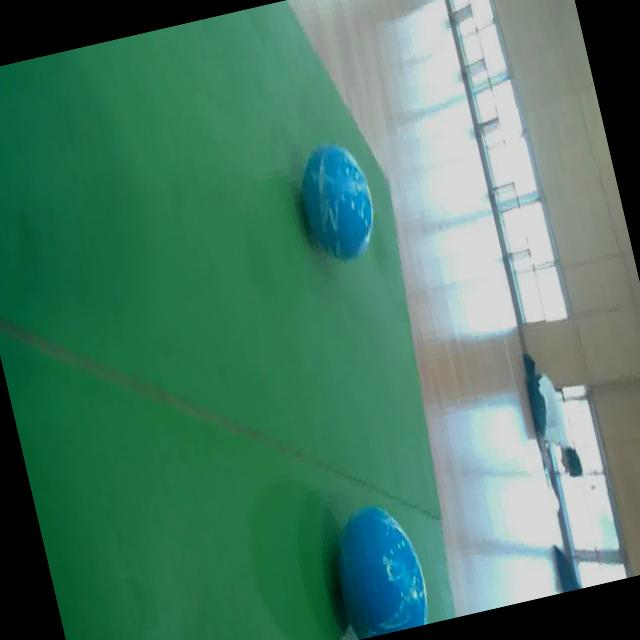blue_ball: (318, 492, 436, 640), (286, 136, 388, 272)
